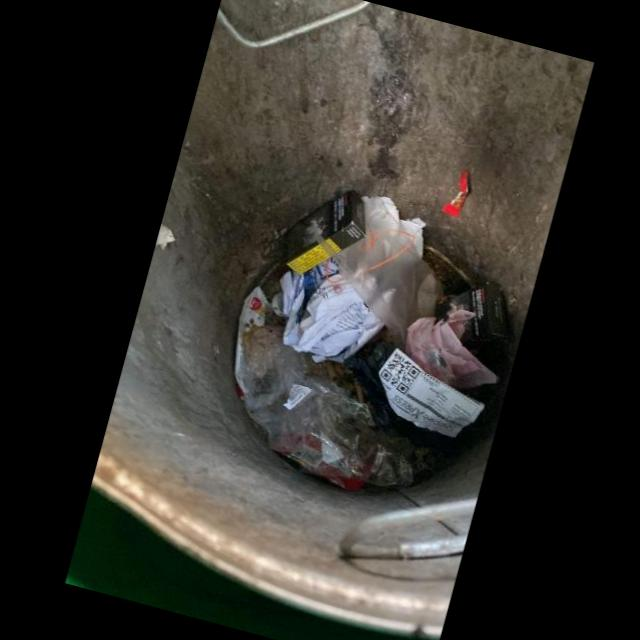carton: (283, 190, 366, 276), (434, 282, 509, 342)
giay: (271, 271, 384, 363), (380, 197, 425, 258)
tui_ni_long: (234, 311, 451, 492), (346, 337, 484, 441), (404, 309, 496, 397)
